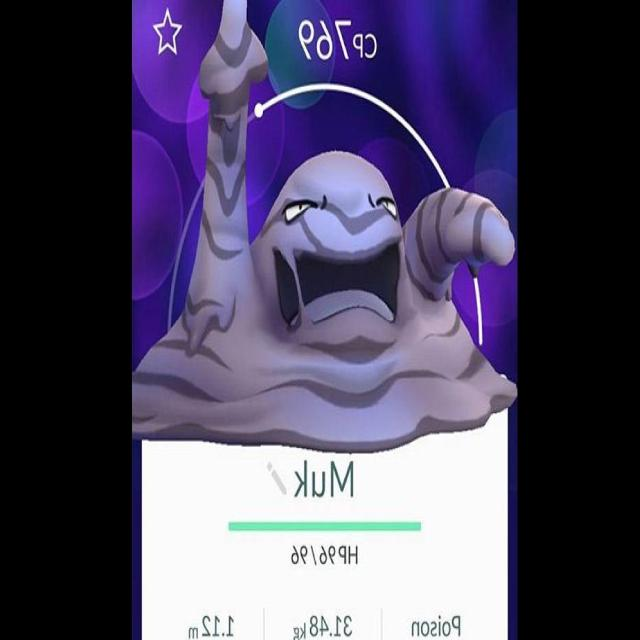Muk: (180, 131, 495, 440)
